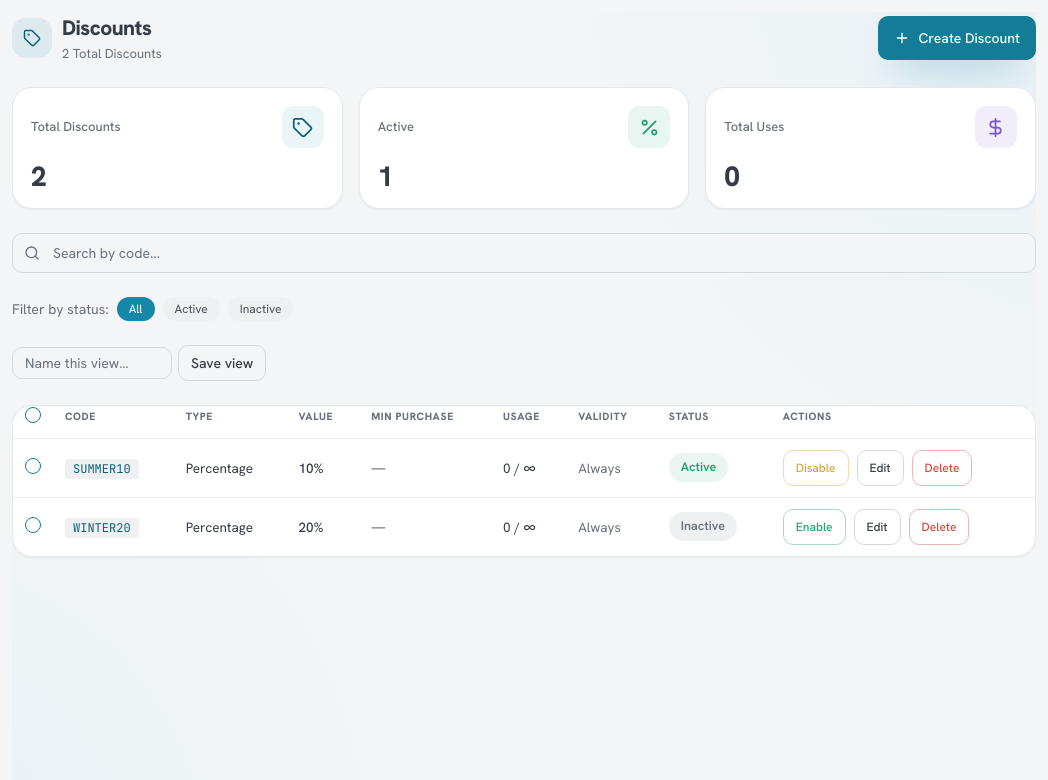
Test: DiscountManagement saved filters (#273) › captures the status segment in a saved view
Expected: the text "SUMMER10" is shown, [65,459,139,479]
Filter to inactive-only, then pin it.
Click the button "Inactive" at {"x": 261, "y": 309}, box [228,297,293,321]
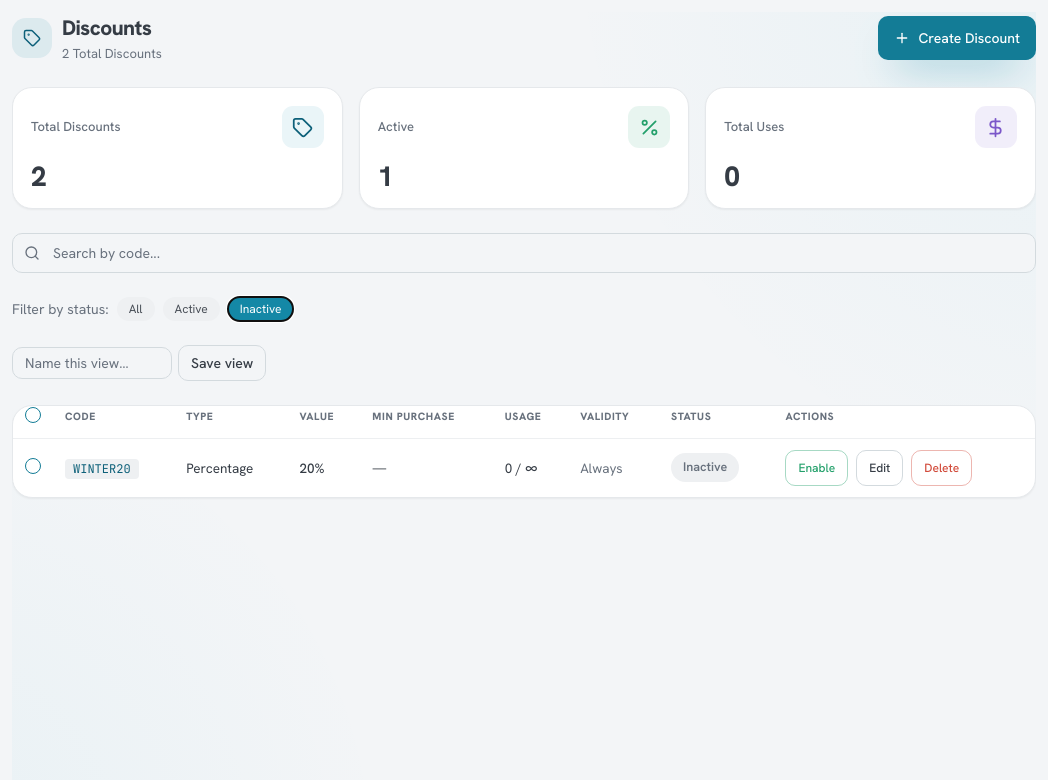
Expected: the text "WINTER20" is shown, [65,459,139,479]
Now the text "SUMMER10" is gone
Type "Retired" into the field with placeholder "Name this view…" at {"x": 92, "y": 363}, box [12,347,172,379]
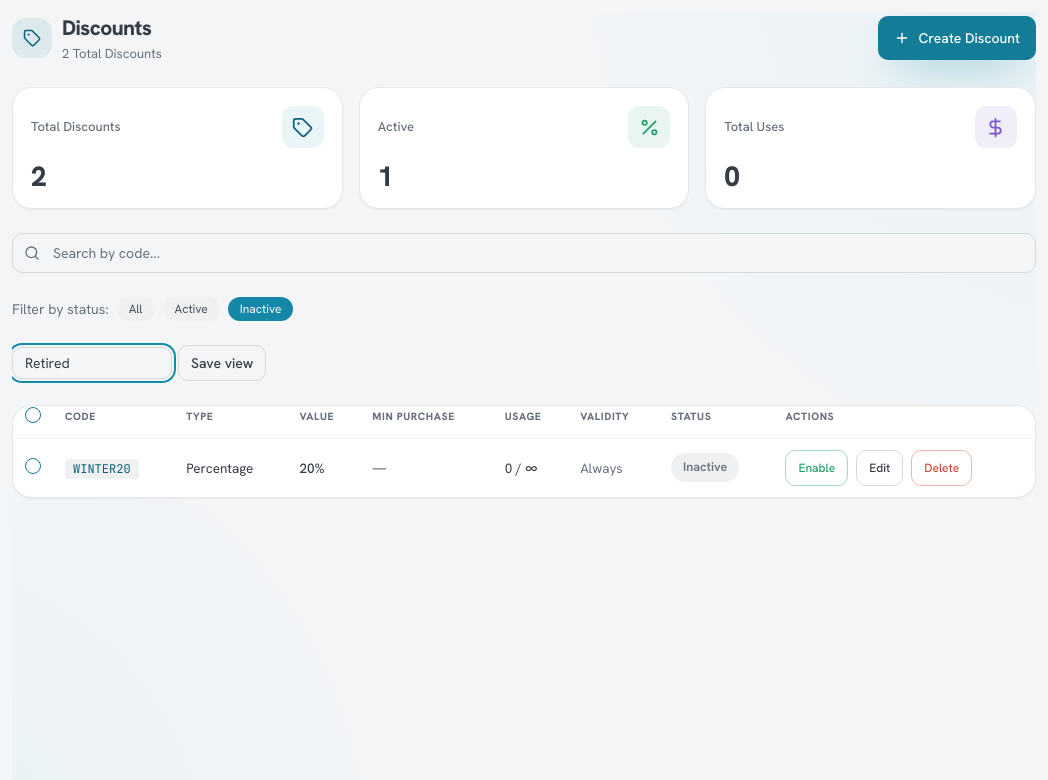
Click the button "Save view" at {"x": 222, "y": 363}, box [178,345,266,381]
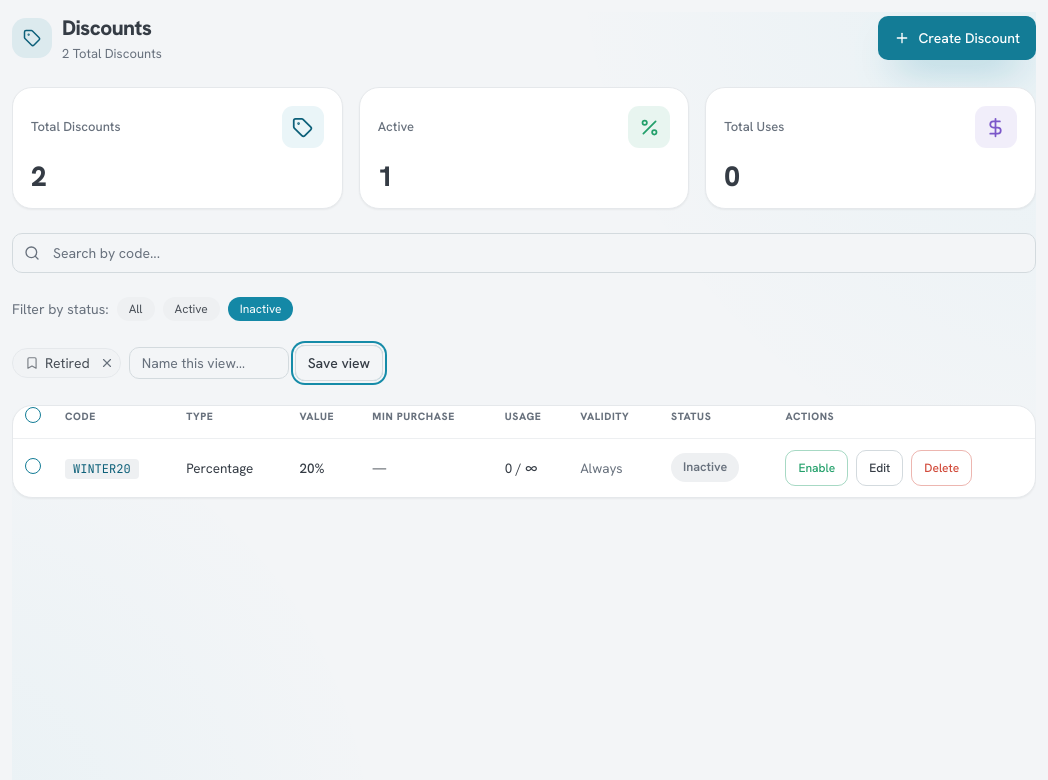
Reset to all statuses, then re-apply — the segment comes back.
Click the button "All" at {"x": 136, "y": 309}, box [117,297,155,321]
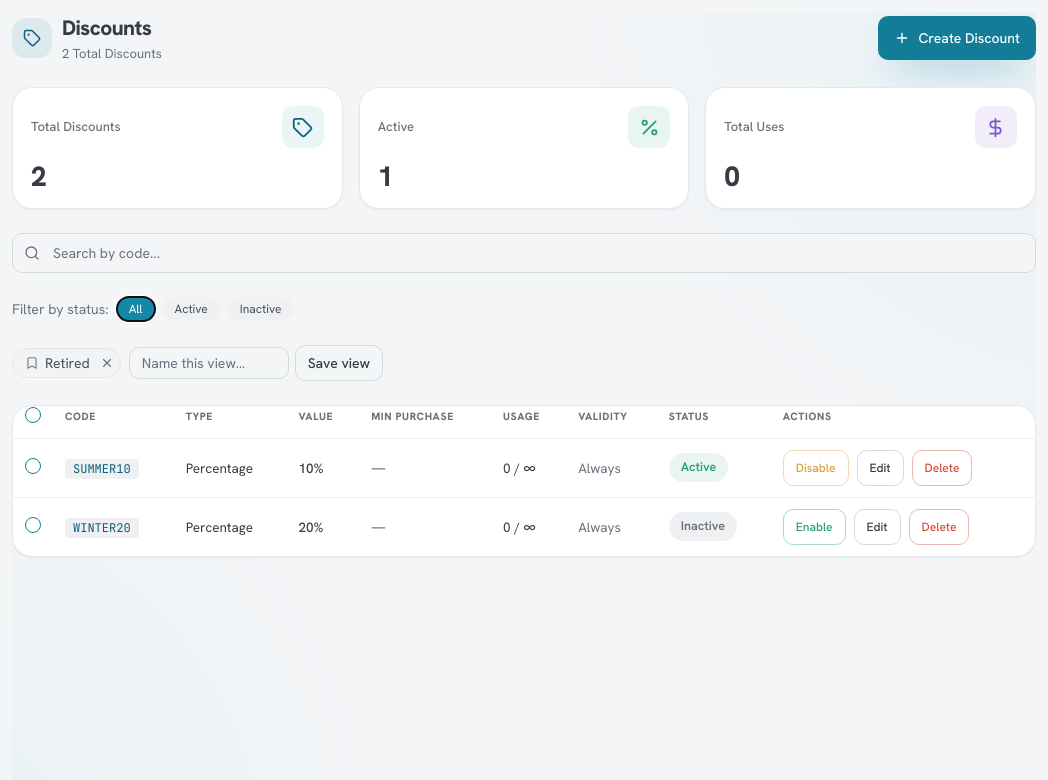
Now the text "SUMMER10" is shown, box [65,459,139,479]
Click the button with aria-label "apply saved view Retired" at {"x": 54, "y": 363}, box [13,349,96,377]
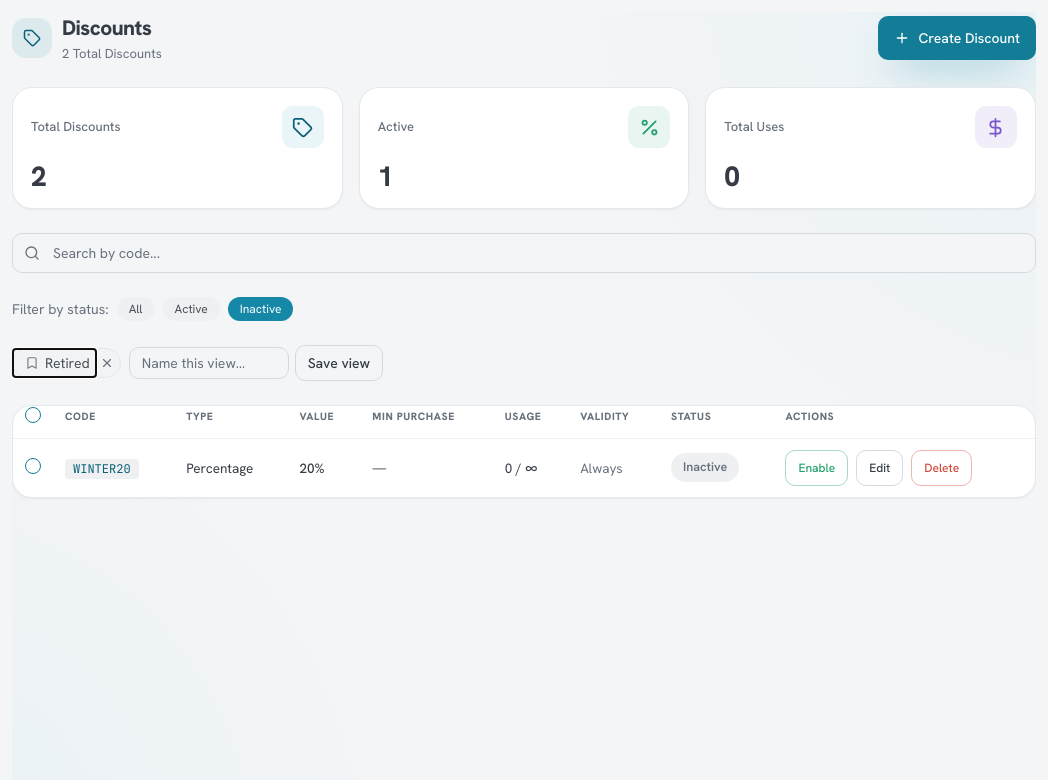
Expected: the text "WINTER20" is shown, [65,459,139,479]
Now the text "SUMMER10" is gone
